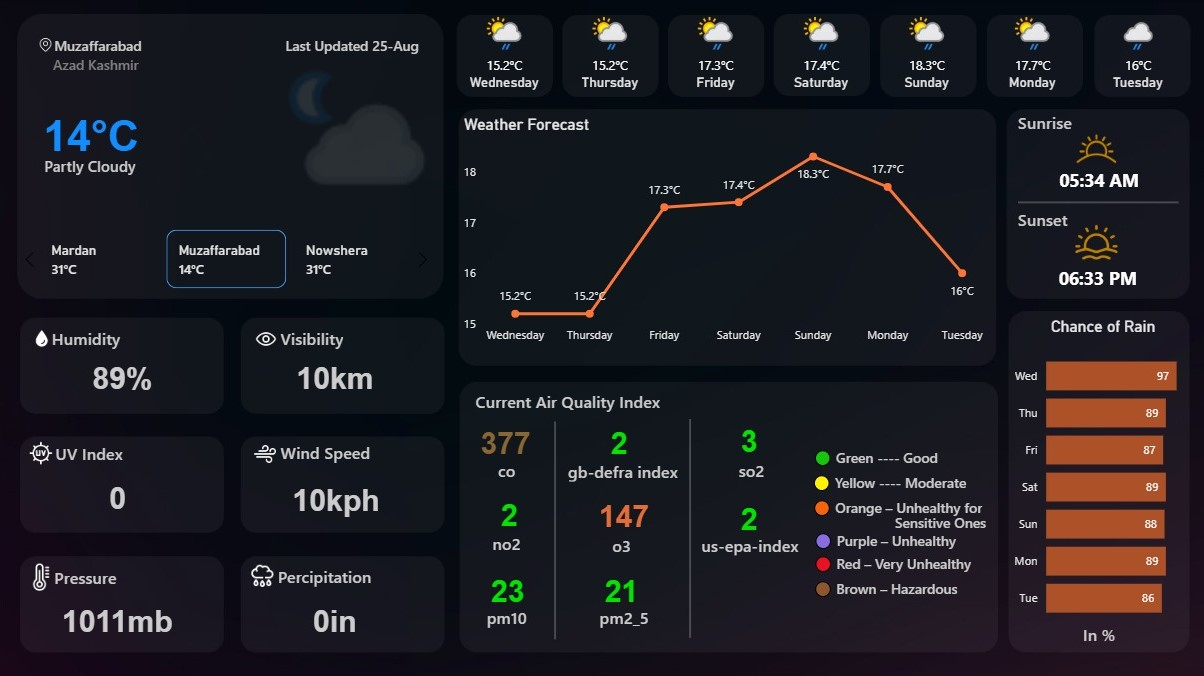

The dashboard page shown, as its layout file describes it:
{"tool":"powerbi","page":{"name":"Dashboard","canvas":[1280,720],"ordinal":0},"visuals":[{"type":"advancedSlicerVisual","fields":{"Values":["Location.location.name"]},"box":[19.2,240.1,447.3,72.7],"z":0},{"type":"shape","box":[59.9,12.8,182.4,72.7],"z":1000},{"type":"shape","box":[48.8,139.5,269,73.8],"z":2000},{"type":"shape","box":[305,12.8,182.4,72.7],"z":3000},{"type":"image","box":[38.6,35.7,24.3,25.7],"z":4000},{"type":"cardVisual","fields":{"Data":["Min(Current.current.condition.icon)"]},"box":[150,35.7,335.7,241.4],"z":5000},{"type":"image","box":[28.6,345.7,34.3,28.6],"z":6000},{"type":"image","box":[264.3,342.9,40,34.3],"z":7000},{"type":"shape","box":[57.1,322.9,182.9,72.9],"z":8000},{"type":"shape","box":[505.7,404.3,205.7,44.3],"z":9000},{"type":"image","box":[261.4,465.7,44.3,34.3],"z":10000},{"type":"shape","box":[61.4,445.7,182.9,72.9],"z":11000},{"type":"image","box":[15.7,464.3,58.6,35.7],"z":12000},{"type":"shape","box":[300,444.3,182.9,72.9],"z":13000},{"type":"image","box":[14.3,594.3,62.9,38.6],"z":14000},{"type":"shape","box":[297.1,575.7,182.9,72.9],"z":15000},{"type":"image","box":[257.1,592.9,45.7,38.6],"z":16000},{"type":"shape","box":[60,577.1,182.9,72.9],"z":17000},{"type":"card","fields":{"Values":["_Measures.Humidity"]},"box":[62.9,367.1,140,68.6],"z":18000},{"type":"card","fields":{"Values":["_Measures.Vis"]},"box":[287.1,367.1,140,68.6],"z":19000},{"type":"card","fields":{"Values":["Sum(Current.current.uv)"]},"box":[57.1,494.3,140,68.6],"z":20000},{"type":"card","fields":{"Values":["_Measures.wind_speed"]},"box":[272.9,497.1,171.4,68.6],"z":21000},{"type":"card","fields":{"Values":["_Measures.pressure"]},"box":[41.4,625.7,171.4,68.6],"z":22000},{"type":"card","fields":{"Values":["_Measures.Percip"]},"box":[271.4,625.7,171.4,68.6],"z":23000},{"type":"advancedSlicerVisual","fields":{"Values":["Forecast_day.day_name"]},"box":[480,7.1,790,104.3],"z":24000},{"type":"lineChart","title":"Weather Forecast","fields":{"Category":["Forecast_day.day_name"],"Y":["Sum(Forecast_day.forecast.forecastday.day.avgtemp_c)"]},"box":[488.6,122.9,570,251.4],"z":25000},{"type":"shape","box":[1081.4,117.1,182.9,27.1],"z":26000},{"type":"shape","box":[1081.4,172.2,171.4,38.6],"z":27000},{"type":"shape","box":[1080,275.2,171.4,38.6],"z":28000},{"type":"image","box":[1124.3,126.1,81.4,65.7],"z":29000},{"type":"shape","box":[1081.4,202.9,170,25.7],"z":30000},{"type":"image","box":[1135.7,230.9,57.1,54.3],"z":31000},{"type":"shape","box":[1081.2,219.6,192.9,27.1],"z":32000},{"type":"clusteredBarChart","title":"Chance of Rain","fields":{"Y":["Sum(Forecast_day.forecast.forecastday.day.daily_chance_of_rain)"],"Category":["Forecast_day.Sh_day_name"]},"box":[1070,337.1,204.3,335.7],"z":33000},{"type":"shape","box":[1075.7,660,182.9,27.1],"z":34000},{"type":"shape","box":[300,322.9,182.9,72.9],"z":35000},{"type":"card","title":"co","fields":{"Values":["Sum(Current.current.air_quality.co)"]},"box":[470.7,448.2,135.7,40],"z":36000},{"type":"shape","box":[448.4,487,182.9,25.7],"z":37000},{"type":"shape","box":[571,487.1,182.9,25.7],"z":38000},{"type":"shape","box":[447.8,564.9,182.9,25.7],"z":39000},{"type":"shape","box":[570.2,565.7,182.9,25.7],"z":40000},{"type":"shape","box":[447.8,642.9,182.9,25.7],"z":41000},{"type":"shape","box":[572.4,642.9,182.9,25.7],"z":42000},{"type":"shape","box":[707.6,486.9,182.9,25.7],"z":43000},{"type":"shape","box":[706,565.5,182.1,26.2],"z":44000},{"type":"shape","box":[575,447.6,31,231],"z":45000},{"type":"shape","box":[717.9,445.2,31,232.1],"z":46000},{"type":"shape","box":[849.9,462.5,161.7,47.7],"z":47000},{"type":"shape","box":[859.1,493,172.3,38.4],"z":48000},{"type":"shape","box":[828.6,527.5,250.5,23.9],"z":49000},{"type":"shape","box":[900.2,544.1,198.8,19],"z":50000},{"type":"shape","box":[814.5,561.8,250.5,23.9],"z":51000},{"type":"shape","box":[822.4,587,250.5,23.9],"z":52000},{"type":"shape","box":[58.3,53.6,182.1,32.1],"z":53000},{"type":"card","fields":{"Values":["_Measures.Curr_Temp"]},"box":[28.6,108.3,139.3,67.9],"z":54000},{"type":"card","title":"co","fields":{"Values":["Sum(Current.current.air_quality.no2)"]},"box":[473.8,525,135.7,39.3],"z":55000},{"type":"card","title":"co","fields":{"Values":["Sum(Current.current.air_quality.gb-defra-index)"]},"box":[591.1,448,135.2,39.8],"z":56000},{"type":"card","title":"co","fields":{"Values":["Sum(Current.current.air_quality.so2)"]},"box":[728.9,446.6,135.2,39.8],"z":57000},{"type":"card","title":"co","fields":{"Values":["Sum(Current.current.air_quality.o3)"]},"box":[596.4,526.2,135.2,39.8],"z":58000},{"type":"card","title":"co","fields":{"Values":["Sum(Current.current.air_quality.us-epa-index)"]},"box":[728.9,528.8,135.2,39.8],"z":59000},{"type":"card","title":"co","fields":{"Values":["Sum(Current.current.air_quality.pm10)"]},"box":[473.1,605.7,135.2,39.8],"z":60000},{"type":"card","title":"co","fields":{"Values":["Sum(Current.current.air_quality.pm2_5)"]},"box":[593.7,605.7,135.2,39.8],"z":61000},{"type":"shape","box":[815.8,613.5,249.2,23.9],"z":62000}]}

Visuals, with their boxes in screenshot pixels (x1, y1, x2, y2), scaled from the page's 1280x720 canvas onto the 1204x676 screenshot:
advancedSlicerVisual - Location.location.name: left=18, top=225, right=439, bottom=294
shape: left=56, top=12, right=228, bottom=80
shape: left=46, top=131, right=299, bottom=200
shape: left=287, top=12, right=458, bottom=80
image: left=36, top=34, right=59, bottom=58
cardVisual - Min(Current.current.condition.icon): left=141, top=34, right=457, bottom=260
image: left=27, top=325, right=59, bottom=351
image: left=249, top=322, right=286, bottom=354
shape: left=54, top=303, right=226, bottom=372
shape: left=476, top=380, right=669, bottom=421
image: left=246, top=437, right=288, bottom=469
shape: left=58, top=418, right=230, bottom=487
image: left=15, top=436, right=70, bottom=469
shape: left=282, top=417, right=454, bottom=486
image: left=13, top=558, right=73, bottom=594
shape: left=279, top=541, right=452, bottom=609
image: left=242, top=557, right=285, bottom=593
shape: left=56, top=542, right=228, bottom=610
card - _Measures.Humidity: left=59, top=345, right=191, bottom=409
card - _Measures.Vis: left=270, top=345, right=402, bottom=409
card - Sum(Current.current.uv): left=54, top=464, right=185, bottom=529
card - _Measures.wind_speed: left=257, top=467, right=418, bottom=531
card - _Measures.pressure: left=39, top=587, right=200, bottom=652
card - _Measures.Percip: left=255, top=587, right=417, bottom=652
advancedSlicerVisual - Forecast_day.day_name: left=452, top=7, right=1195, bottom=105
"Weather Forecast" lineChart: left=460, top=115, right=996, bottom=351
shape: left=1017, top=110, right=1189, bottom=135
shape: left=1017, top=162, right=1178, bottom=198
shape: left=1016, top=258, right=1177, bottom=295
image: left=1058, top=118, right=1134, bottom=180
shape: left=1017, top=191, right=1177, bottom=215
image: left=1068, top=217, right=1122, bottom=268
shape: left=1017, top=206, right=1198, bottom=232
"Chance of Rain" clusteredBarChart: left=1006, top=316, right=1199, bottom=632
shape: left=1012, top=620, right=1184, bottom=645
shape: left=282, top=303, right=454, bottom=372
"co" card: left=443, top=421, right=570, bottom=458
shape: left=422, top=457, right=594, bottom=481
shape: left=537, top=457, right=709, bottom=481
shape: left=421, top=530, right=593, bottom=555
shape: left=536, top=531, right=708, bottom=555
shape: left=421, top=604, right=593, bottom=628
shape: left=538, top=604, right=710, bottom=628
shape: left=666, top=457, right=838, bottom=481
shape: left=664, top=531, right=835, bottom=556
shape: left=541, top=420, right=570, bottom=637
shape: left=675, top=418, right=704, bottom=636
shape: left=799, top=434, right=952, bottom=479
shape: left=808, top=463, right=970, bottom=499
shape: left=779, top=495, right=1015, bottom=518
shape: left=847, top=511, right=1034, bottom=529
shape: left=766, top=527, right=1002, bottom=550
shape: left=774, top=551, right=1009, bottom=574
shape: left=55, top=50, right=226, bottom=80
card - _Measures.Curr_Temp: left=27, top=102, right=158, bottom=165
"co" card: left=446, top=493, right=573, bottom=530
"co" card: left=556, top=421, right=683, bottom=458
"co" card: left=686, top=419, right=813, bottom=457
"co" card: left=561, top=494, right=688, bottom=531
"co" card: left=686, top=496, right=813, bottom=534
"co" card: left=445, top=569, right=572, bottom=606
"co" card: left=558, top=569, right=686, bottom=606
shape: left=767, top=576, right=1002, bottom=598
